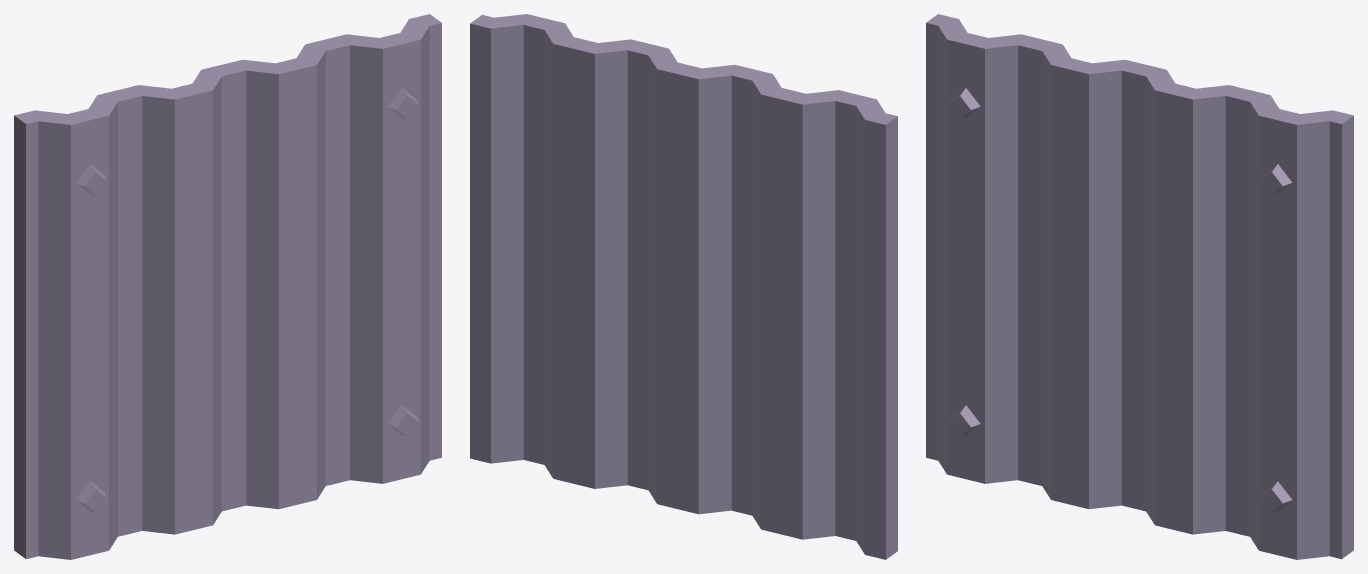
The model's file is metal-panel-screws.obj.
The picture shows the model from 3 angles, left to right: view 1: azimuth 30°, elevation 25°; view 2: azimuth 150°, elevation 25°; view 3: azimuth 330°, elevation 25°; orthographic projection.
Bounding box in the file's own units: 0.5 × 0.5 × 0.0625.
